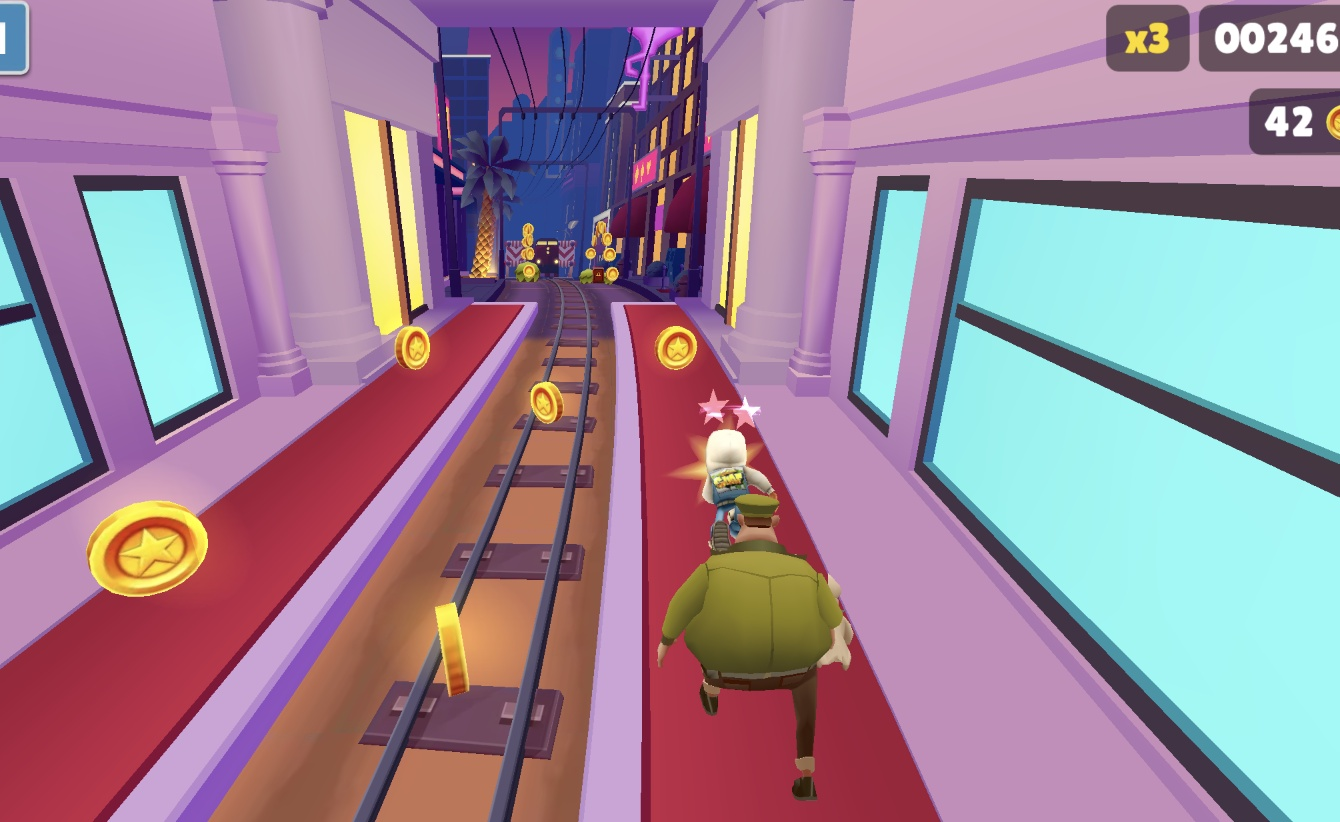bush: (513, 257, 540, 276), (580, 264, 594, 278), (603, 265, 615, 279)
overhead_barrier: (503, 235, 529, 267), (558, 236, 578, 269)
small_obstacle: (593, 261, 604, 277)
train: (529, 235, 563, 268)
